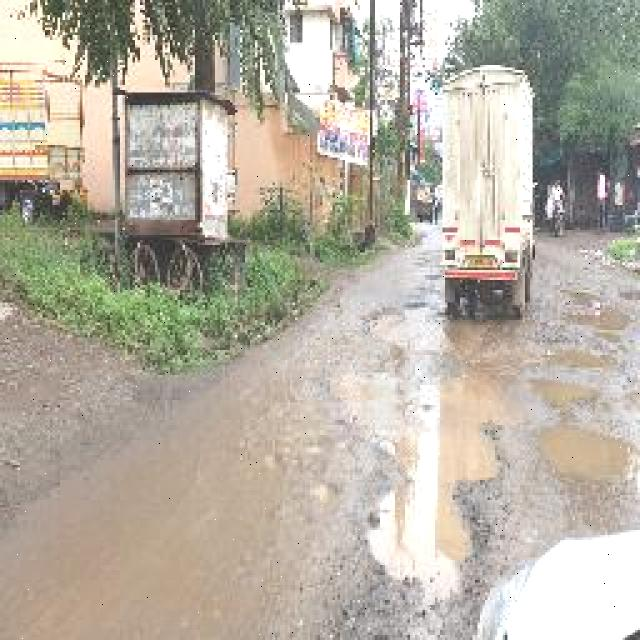stagnation: (306, 362, 524, 538), (552, 285, 640, 487)
